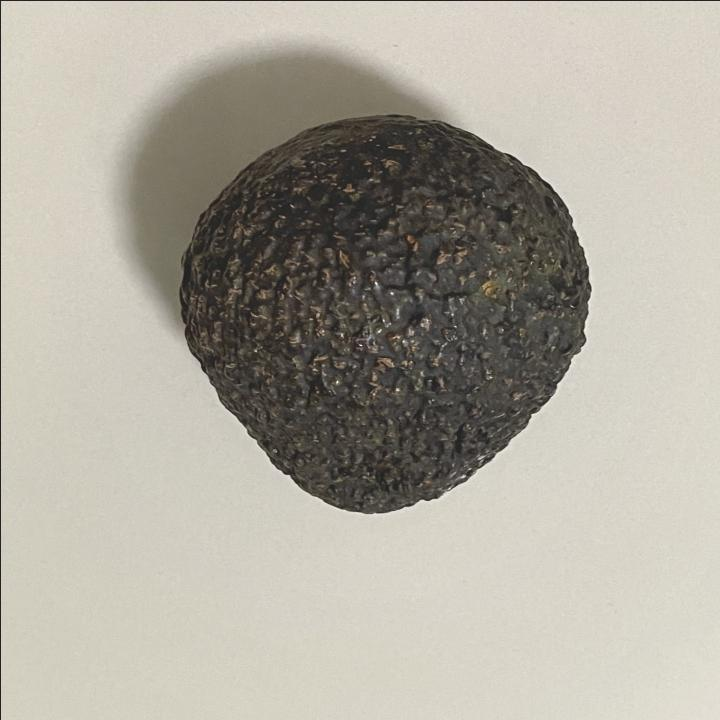Level1: (157, 103, 623, 536)
